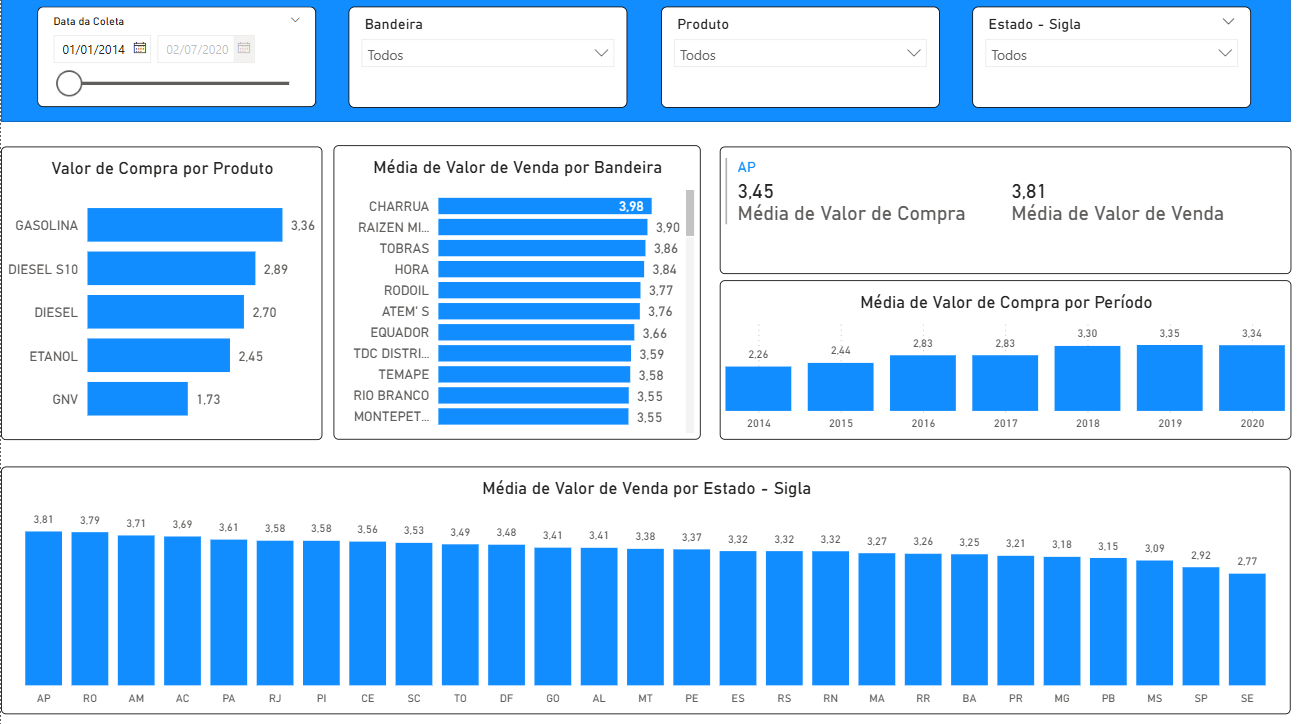

What the dashboard file says about the page in this screenshot:
{"tool":"powerbi","page":{"name":"Combustível","canvas":[1280,720],"ordinal":0},"visuals":[{"type":"clusteredColumnChart","fields":{"Y":["Avg(BASE_COMBUSTIVEL.Valor de Venda)"],"Category":["BASE_COMBUSTIVEL.Estado - Sigla"]},"box":[0,461.9,1261.9,242.1],"z":0},{"type":"clusteredBarChart","title":"Valor de Compra por Produto","fields":{"Category":["BASE_COMBUSTIVEL.Produto"],"Y":["Avg(BASE_COMBUSTIVEL.Valor de Compra)"]},"box":[0,149.2,314.3,287.4],"z":1000},{"type":"clusteredBarChart","fields":{"Category":["BASE_COMBUSTIVEL.Bandeira"],"Y":["Avg(BASE_COMBUSTIVEL.Valor de Venda)"]},"box":[325.6,147.5,359,288],"z":2000},{"type":"columnChart","title":"Média de Valor de Compra por Período","fields":{"Category":["BASE_COMBUSTIVEL.Data da Coleta.Variation.Hierarquia de datas.Ano","BASE_COMBUSTIVEL.Data da Coleta.Variation.Hierarquia de datas.Mês"],"Y":["Avg(BASE_COMBUSTIVEL.Valor de Compra)"]},"box":[702.6,279.7,559.3,155.8],"z":3000},{"type":"shape","box":[0,0,1261.9,125.2],"z":5000},{"type":"slicer","fields":{"Values":["BASE_COMBUSTIVEL.Data da Coleta"]},"box":[35.3,11.9,272.7,98.8],"z":6000},{"type":"slicer","fields":{"Values":["BASE_COMBUSTIVEL.Bandeira"]},"box":[340.3,11.8,272.7,99],"z":7000},{"type":"slicer","fields":{"Values":["BASE_COMBUSTIVEL.Produto"]},"box":[645.4,11.8,272.7,99],"z":8000},{"type":"slicer","fields":{"Values":["BASE_COMBUSTIVEL.Estado - Sigla"]},"box":[950.4,11.8,272.7,99],"z":9000},{"type":"multiRowCard","fields":{"Values":["BASE_COMBUSTIVEL.Estado - Sigla","Avg(BASE_COMBUSTIVEL.Valor de Compra)","Avg(BASE_COMBUSTIVEL.Valor de Venda)"]},"box":[703.1,149.2,558.8,124.7],"z":10000}]}

Visuals, with their boxes in screenshot pixels (x1, y1, x2, y2), scaled from the page's 1280x720 canvas onto the 1305x724 screenshot:
clusteredColumnChart - Avg(BASE_COMBUSTIVEL.Valor de Venda) x BASE_COMBUSTIVEL.Estado - Sigla: <box>0,464,1287,708</box>
"Valor de Compra por Produto" clusteredBarChart: <box>0,150,320,439</box>
clusteredBarChart - BASE_COMBUSTIVEL.Bandeira x Avg(BASE_COMBUSTIVEL.Valor de Venda): <box>332,148,698,438</box>
"Média de Valor de Compra por Período" columnChart: <box>716,281,1287,438</box>
shape: <box>0,0,1287,126</box>
slicer - BASE_COMBUSTIVEL.Data da Coleta: <box>36,12,314,111</box>
slicer - BASE_COMBUSTIVEL.Bandeira: <box>347,12,625,111</box>
slicer - BASE_COMBUSTIVEL.Produto: <box>658,12,936,111</box>
slicer - BASE_COMBUSTIVEL.Estado - Sigla: <box>969,12,1247,111</box>
multiRowCard - BASE_COMBUSTIVEL.Estado - Sigla x Avg(BASE_COMBUSTIVEL.Valor de Compra): <box>717,150,1287,275</box>
